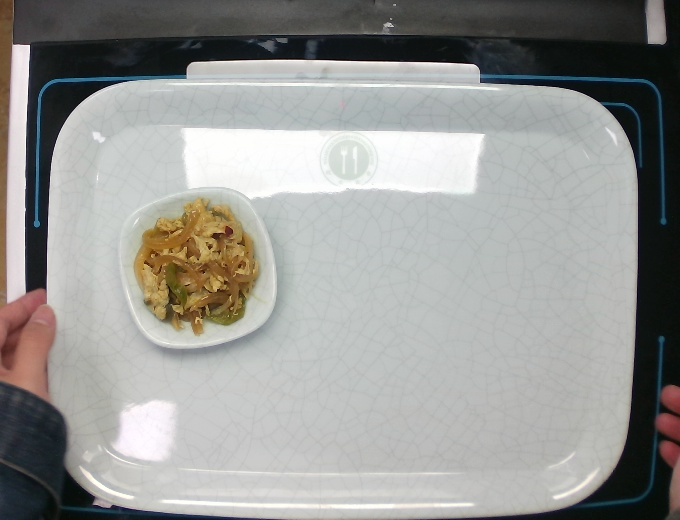JYsf-Si_Fang_Die: (115, 185, 279, 351)
